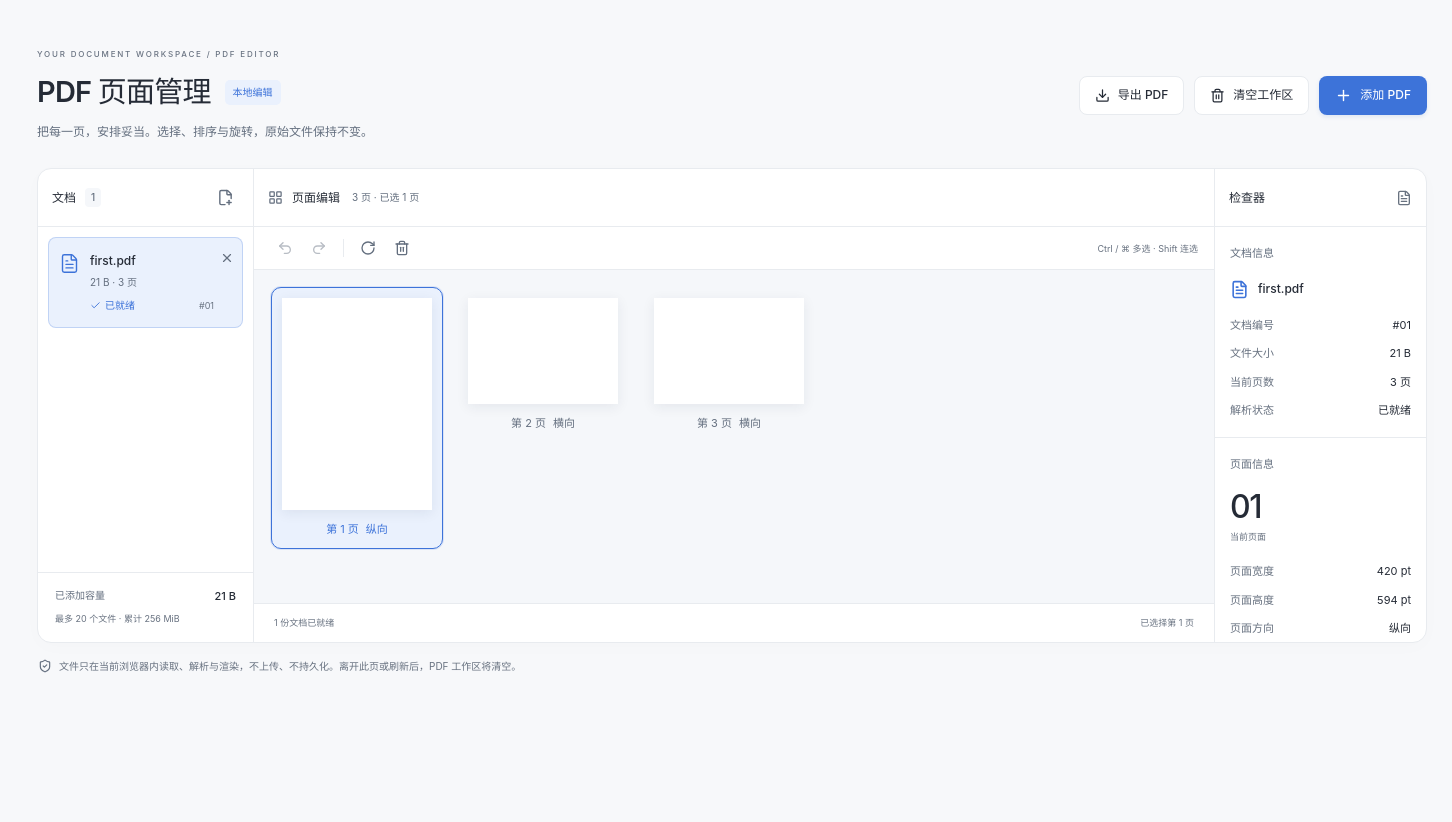
Test case: PDF editing integration › supports single, Ctrl, Command and anchored Shift selection without adding history
Earlier steps of the test are not shown.
Later steps or results of the test are not shown.
Check: the button "第 3 页 横向" is shown, box [643,287,815,443]
Click the button "第 2 页 横向" at (543, 365), box [457,287,629,443]
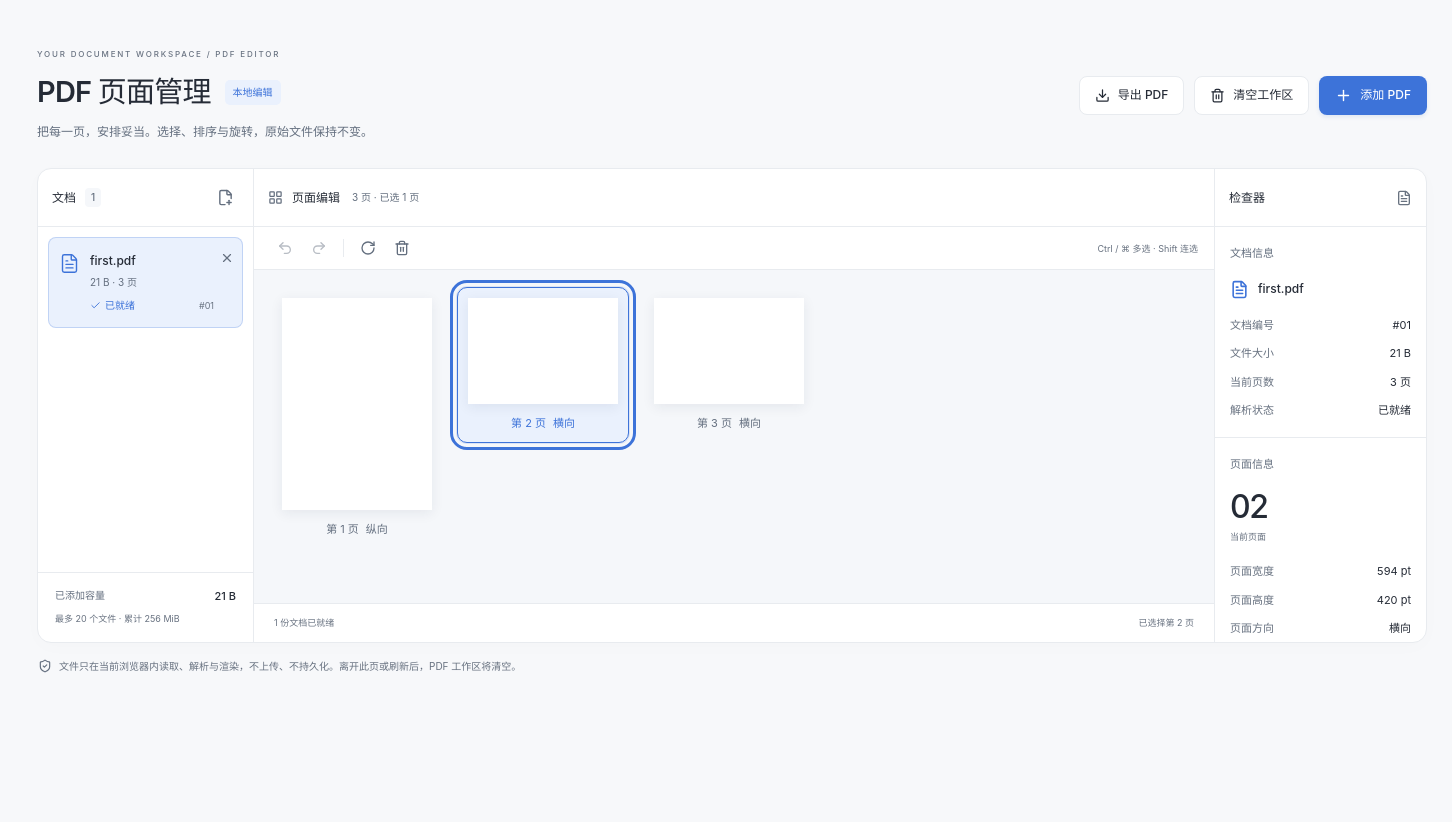
Click the button "第 3 页 横向" at (729, 365), box [643,287,815,443]
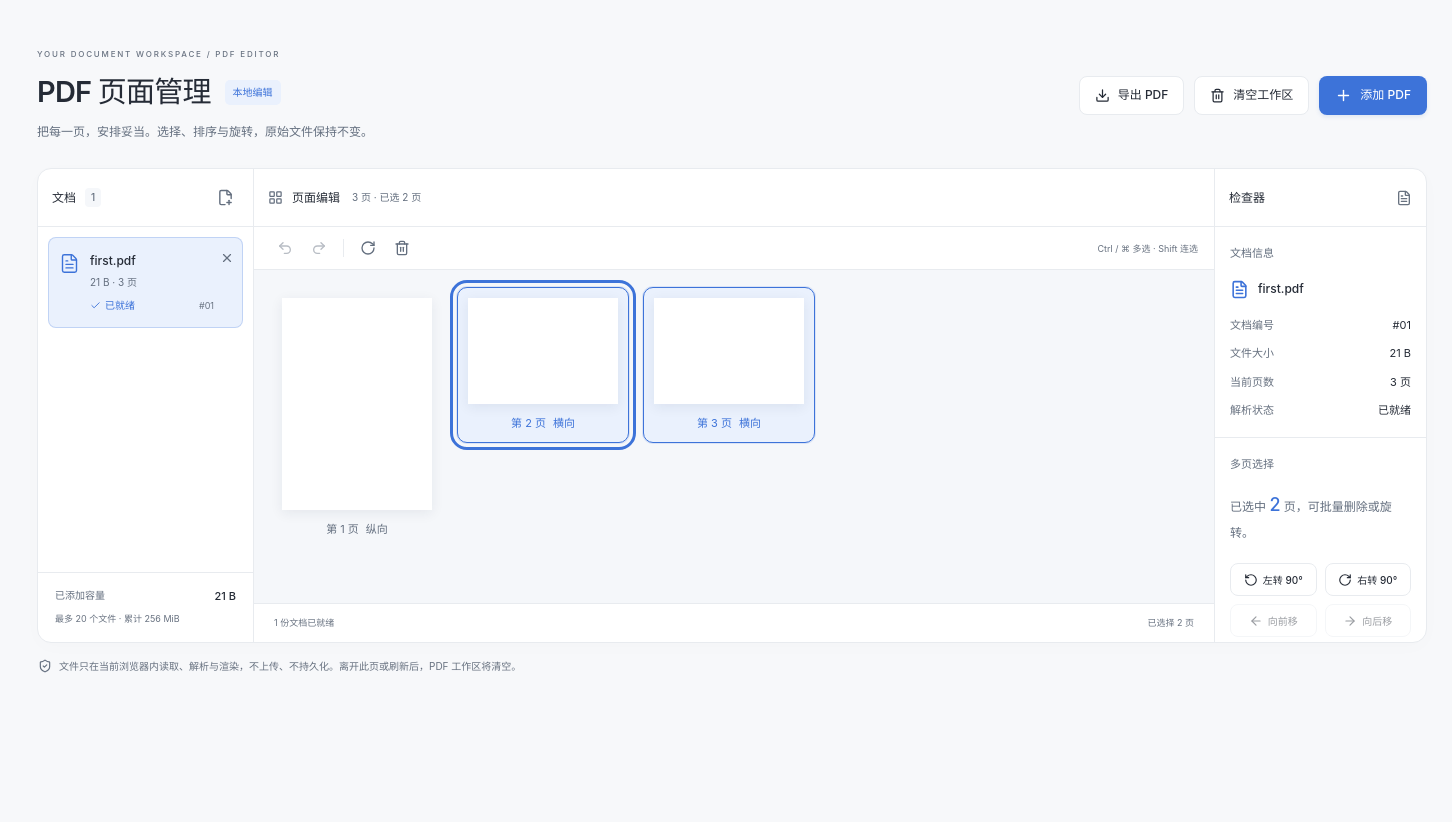
Check: the heading "多页选择" is shown, box [1230,457,1274,471]
